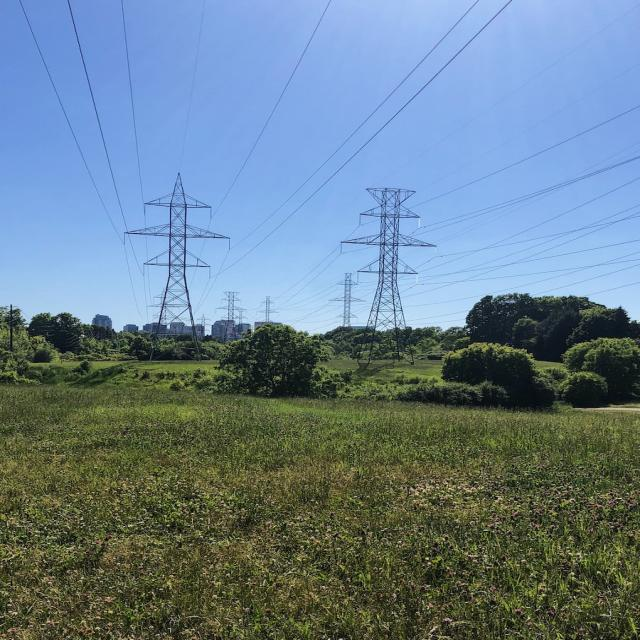transmission tower: (134, 162, 243, 378), (344, 187, 446, 335), (255, 293, 279, 318)
